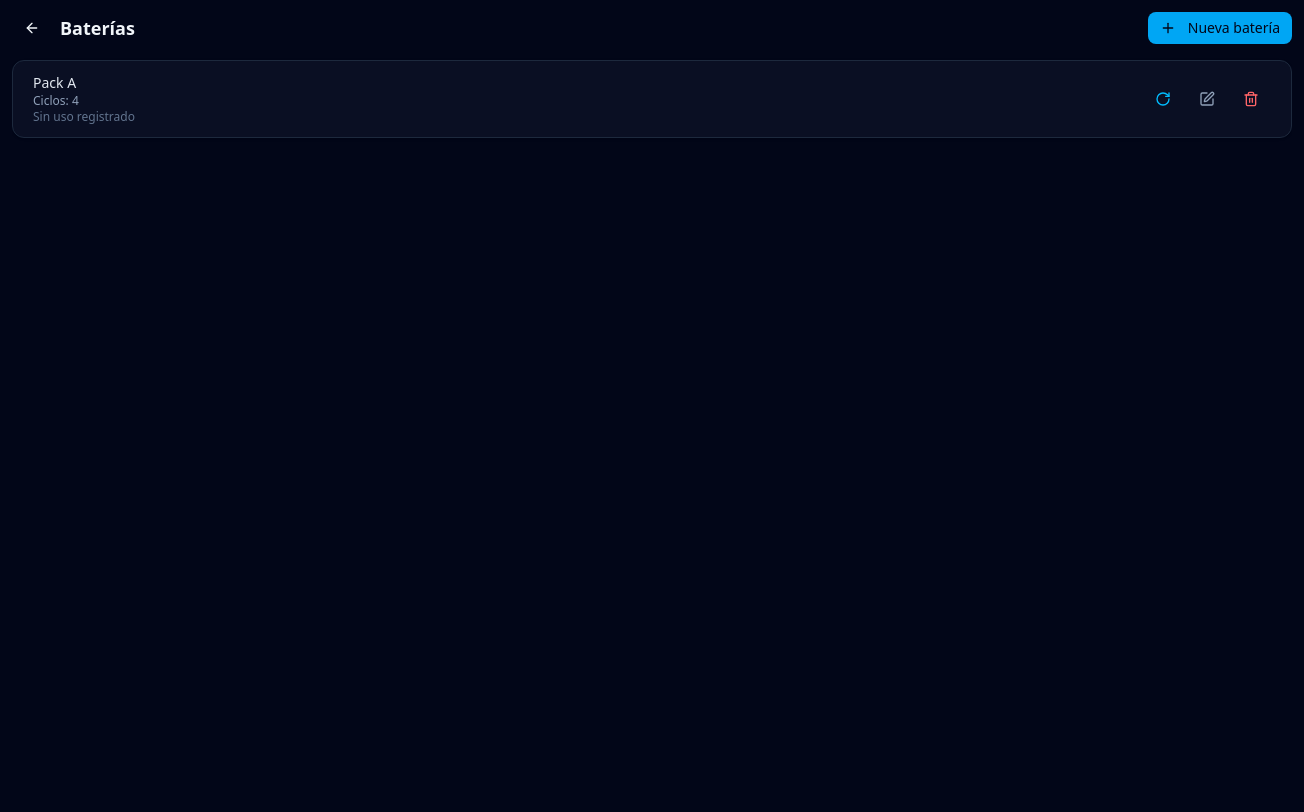
Test: BatteryPage › shows an operation error toast when a cycle fails
The width and height of the screenshot is (1304, 812).
Expected: the text "Pack A" is shown, [33,73,76,92]
Click the button named "Registrar ciclo" at (1163, 99), box [1143,83,1183,115]
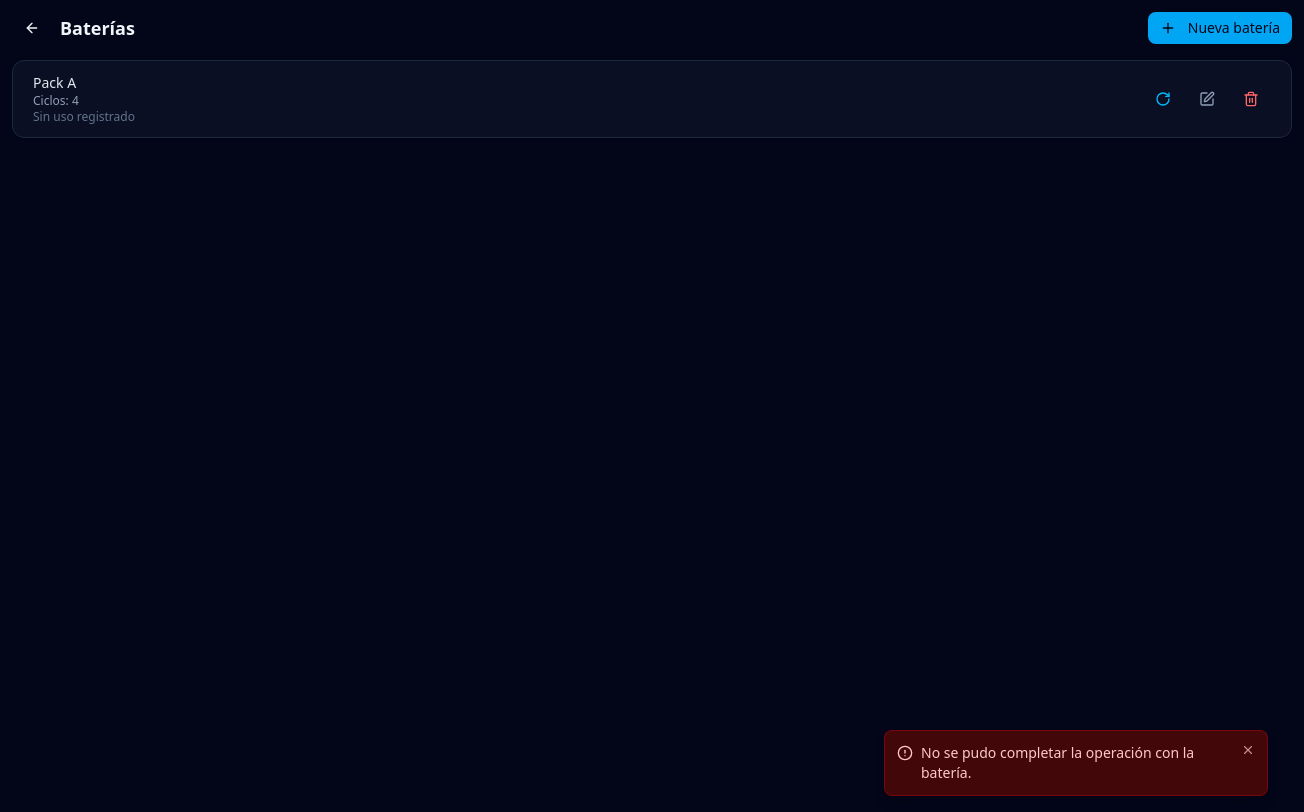
Expected: the text "No se pudo completar la operación con la batería." is shown, [921,743,1233,783]
